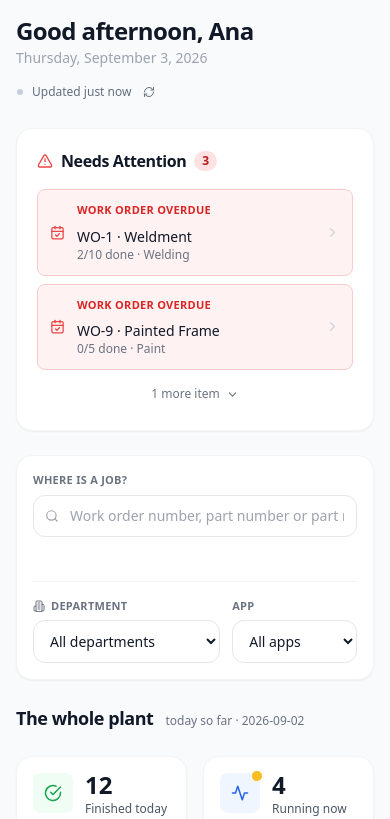
the department directory while a filter is on › says it is still plant-wide, and dims what is out of scope
Select "Welding" in the dropdown labelled "Department" at (127, 642), box [33, 620, 220, 663]
(page scrolled)
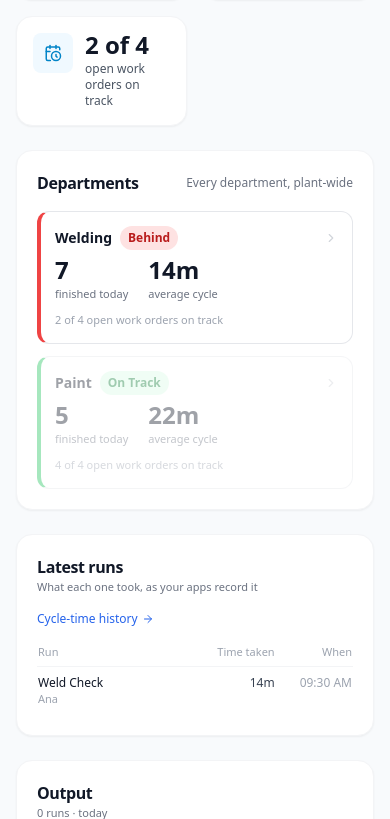
Now the text with test id "departments-caption" reads "Every department, plant-wide", box [186, 174, 353, 190]
